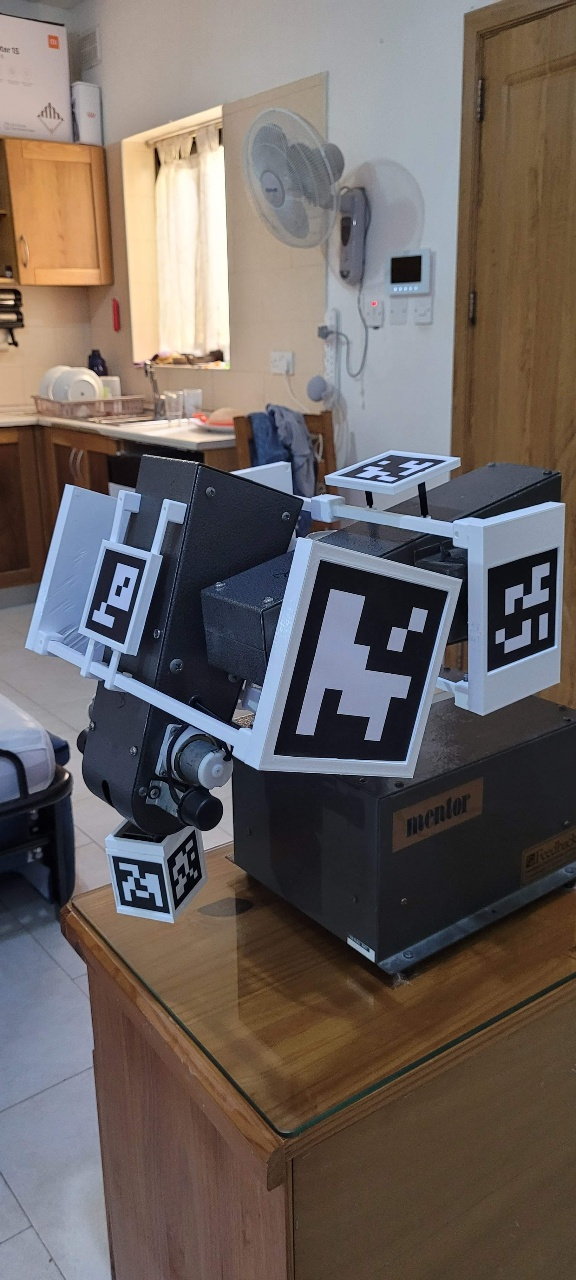Robot: (21, 448, 569, 923)
